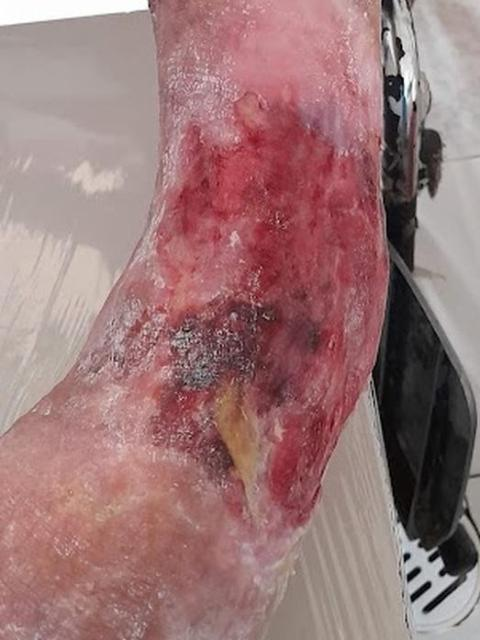wound: (94, 91, 389, 566)
